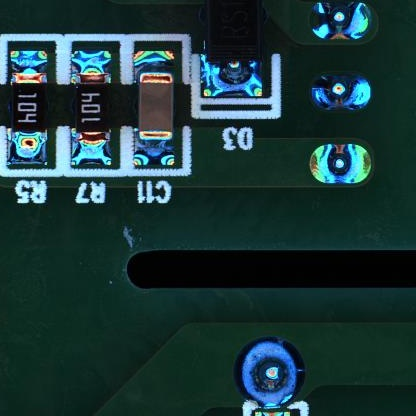spot: (231, 335, 306, 408), (308, 1, 372, 39), (308, 144, 372, 182), (311, 73, 370, 110)
